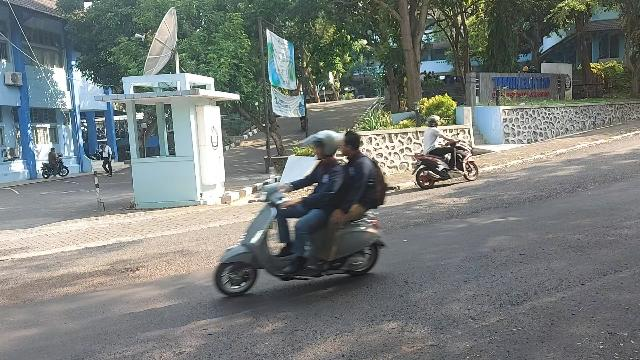helm: (302, 131, 340, 158), (427, 117, 441, 128)
motor: (215, 183, 387, 298), (413, 133, 479, 189)
non-helm: (342, 133, 361, 156)
